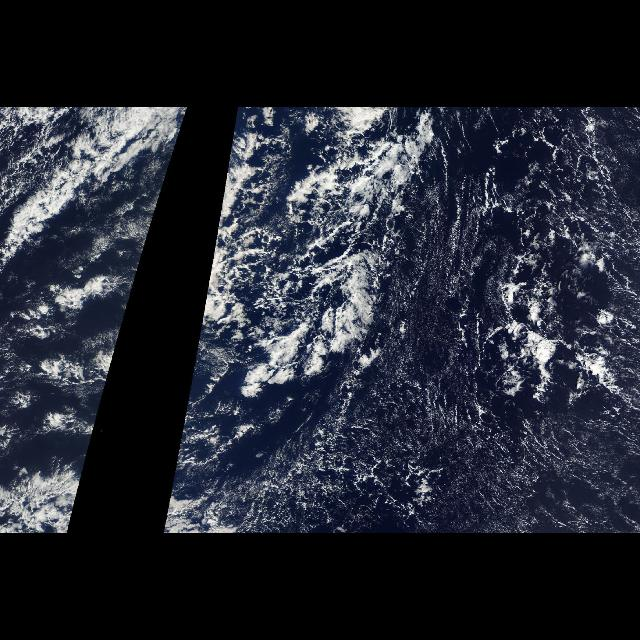Gravel: (354, 371, 608, 479), (478, 113, 630, 283)
Sugar: (354, 193, 640, 533)
